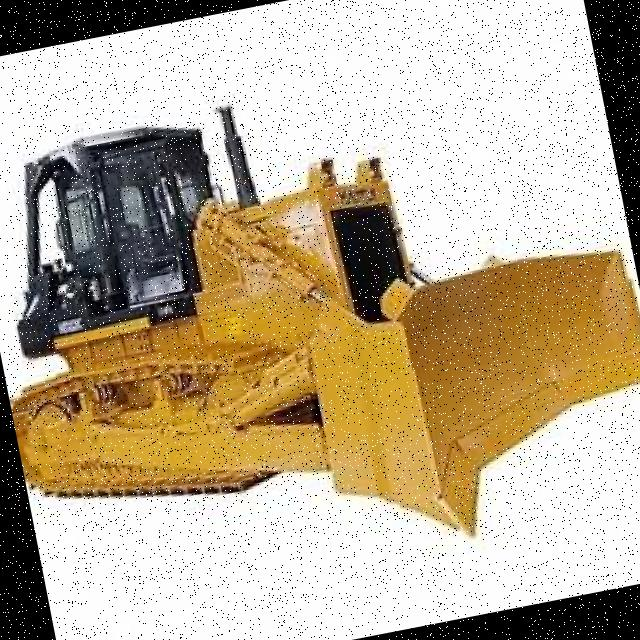Bulldozer: (0, 24, 640, 617)
